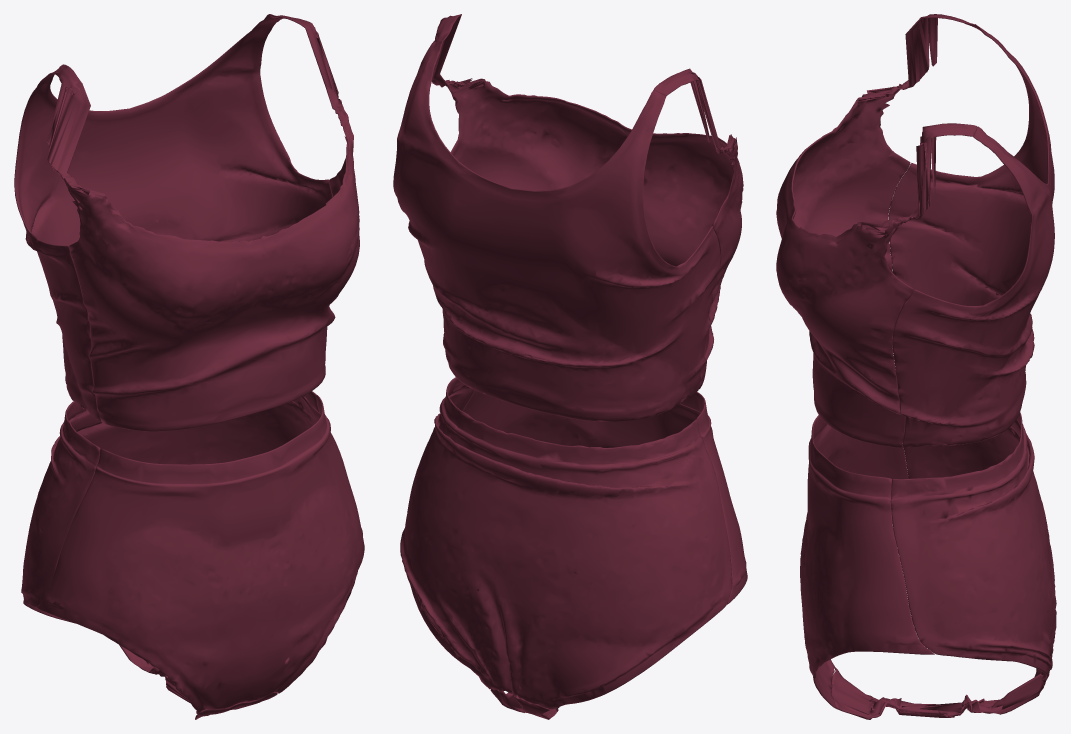
3 renders of one model, left to right at view 1: azimuth 30°, elevation 25°; view 2: azimuth 150°, elevation 25°; view 3: azimuth 270°, elevation 25°, orthographic.
Visible parts, largest first — view 1: AZHO_Product; view 2: AZHO_Product; view 3: AZHO_Product.
Part boxes in pixels (x1,y1,x2,y2): AZHO_Product: [14, 14, 364, 719]; AZHO_Product: [393, 14, 747, 719]; AZHO_Product: [776, 14, 1056, 719].
Size of the model in its own units: 0.3463 by 0.6919 by 0.2729.
